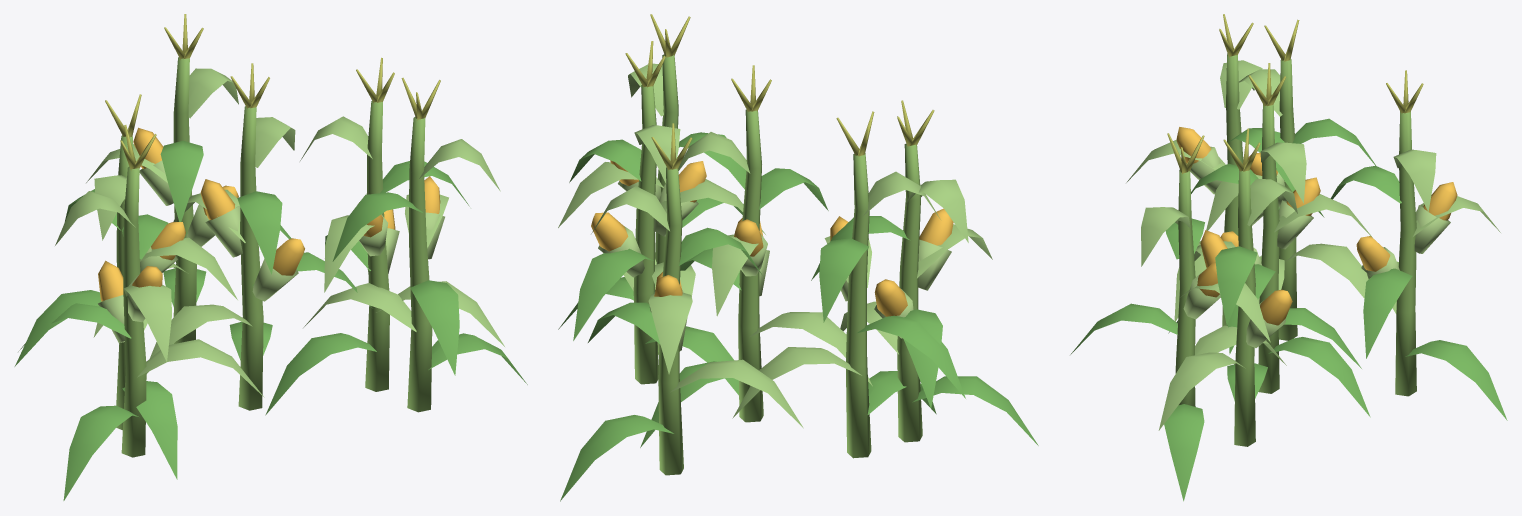
Rendered from corn_patch.glb.
3 views of the same model, side by side, from view 1: azimuth 30°, elevation 25°; view 2: azimuth 150°, elevation 25°; view 3: azimuth 270°, elevation 25° (orthographic). The views are drawn at different scales.
Visible parts, largest first — view 1: corn_3, corn_2, corn_1; view 2: corn_3, corn_2, corn_1; view 3: corn_3, corn_2, corn_1.
Boxes of the visible parts, box(x1,y1,x2,y2) form: corn_3: box(18, 14, 527, 500); corn_2: box(14, 57, 504, 479); corn_1: box(146, 63, 372, 410); corn_3: box(558, 14, 1038, 501); corn_2: box(569, 41, 965, 458); corn_1: box(640, 65, 872, 447); corn_3: box(1070, 14, 1507, 501); corn_2: box(1158, 19, 1375, 446); corn_1: box(1191, 63, 1372, 417).
Bounding box in the file's own units: 1.72 × 1.19 × 1.47.
